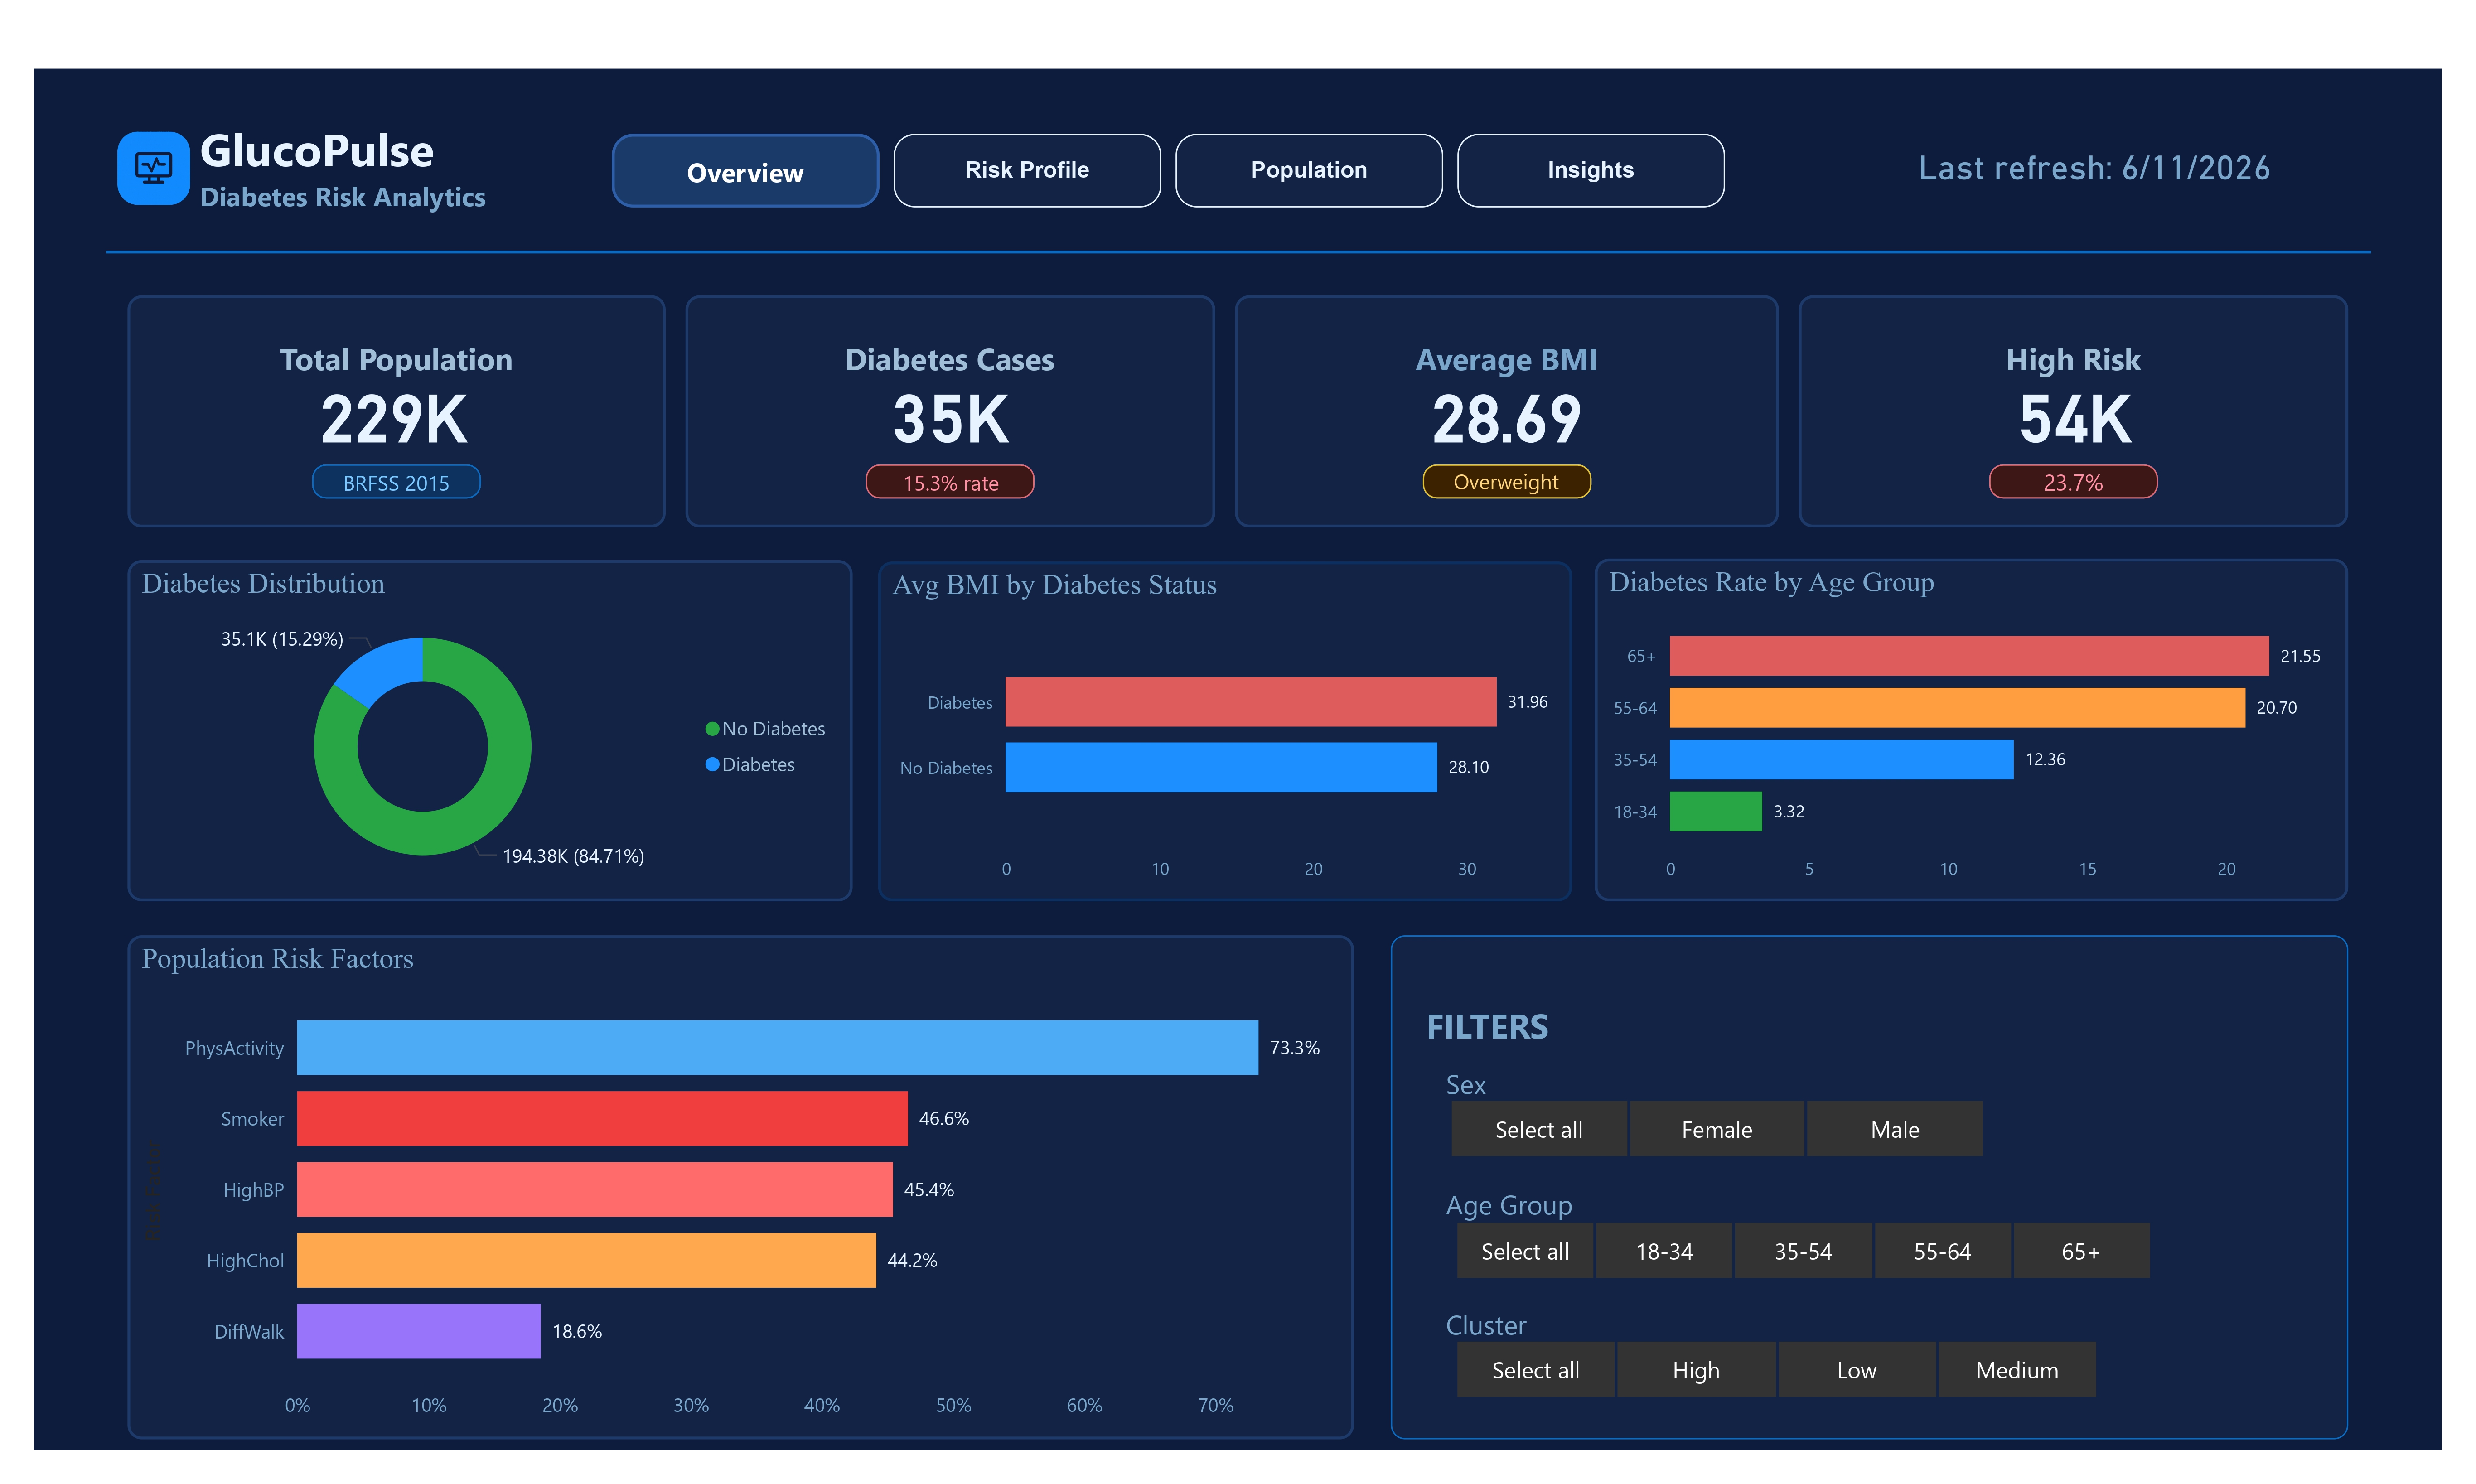

The page's visual inventory and layout, read from the dashboard file:
{"tool":"powerbi","page":{"name":"Overview ","canvas":[1700,1000],"ordinal":0},"visuals":[{"type":"shape","box":[958,612,676,356],"z":0},{"type":"textbox","box":[112.5,29,228.4,78.4],"z":1000},{"type":"shape","box":[51.1,107.4,1598.5,44.3],"z":2000},{"type":"card","title":"Total Population","fields":{"Values":["dashboard_diabetes_data.Total Population"]},"box":[66,160,380,164],"z":3000},{"type":"card","fields":{"Values":["dashboard_diabetes_data.Diabetes Cases"]},"box":[460,160,374,164],"z":4000},{"type":"card","fields":{"Values":["dashboard_diabetes_data.Average BMI"]},"box":[848,160,384,164],"z":5000},{"type":"card","fields":{"Values":["dashboard_diabetes_data.High Risk Cluster"]},"box":[1246,160,388,164],"z":6000},{"type":"donutChart","title":"Diabetes Distribution","fields":{"Category":["dashboard_diabetes_data.Diabetes Status"],"Y":["CountNonNull(dashboard_diabetes_data.Diabetes_binary)"]},"box":[66.3,346.7,512,241.7],"z":7000},{"type":"clusteredBarChart","title":"Avg BMI by Diabetes Status","fields":{"Category":["dashboard_diabetes_data.Diabetes Status"],"Y":["dashboard_diabetes_data.Average BMI"]},"box":[596.3,348.3,490,240],"z":8000},{"type":"clusteredBarChart","title":"Diabetes Rate by Age Group","fields":{"Category":["dashboard_diabetes_data.Age Group"],"Y":["dashboard_diabetes_data.Diabetes Rate Display"]},"box":[1102,346,532,242],"z":9000},{"type":"clusteredBarChart","title":"Population Risk Factors","fields":{"Category":["RiskFactors.Risk Factor"],"Y":["dashboard_diabetes_data.Risk Factor Rate"]},"box":[66,612,866,356],"z":10000},{"type":"slicer","title":"Sex","fields":{"Values":["dashboard_diabetes_data.Gender"]},"box":[962,722,442,56],"z":11000},{"type":"textbox","box":[978.3,653.5,364.7,42.6],"z":12000},{"type":"textbox","box":[991.6,698.9,299.9,51.1],"z":13000},{"type":"slicer","title":"Sex","fields":{"Values":["dashboard_diabetes_data.Age Group"]},"box":[966,808,556,56],"z":14000},{"type":"textbox","box":[992.3,783.9,300,50],"z":15000},{"type":"slicer","title":"Sex","fields":{"Values":["dashboard_diabetes_data.Risk Cluster"]},"box":[966,892,518,56],"z":16000},{"type":"textbox","box":[992.3,868.9,300,51.7],"z":17000},{"type":"textbox","box":[83.1,184.6,346.2,45.4],"z":18000},{"type":"shape","box":[196,279,120,25],"z":19000},{"type":"textbox","box":[197,278,118,32],"z":20000},{"type":"textbox","box":[473.8,184.6,345.4,45.4],"z":21000},{"type":"shape","box":[587.3,279.1,120,24.5],"z":22000},{"type":"textbox","box":[594.5,279.1,105.5,34.5],"z":23000},{"type":"textbox","box":[866.9,184.6,346.2,47.7],"z":24000},{"type":"shape","box":[980,279,120,25],"z":25000},{"type":"textbox","box":[984,276,111,32],"z":26000},{"type":"textbox","box":[1266.9,184.6,346.2,47.7],"z":27000},{"type":"shape","box":[1380,279,120,25],"z":28000},{"type":"textbox","box":[1385,276,110,33],"z":29000},{"type":"image","box":[0,4.4,167.8,147.2],"z":30000},{"type":"card","fields":{"Values":["dashboard_diabetes_data.Last Refresh"]},"box":[1260,16,390,106],"z":31000},{"type":"pageNavigator","box":[408.1,46.2,788.1,51.9],"z":32000}]}

Visuals, with their boxes on the page's 1700x1000 design canvas (x1, y1, x2, y2). These are canvas units, not pixel positions in the 2476x1484 screenshot, which may show the page scaled, cropped or inside an application window:
shape: detection(958, 612, 1634, 968)
textbox: detection(112, 29, 341, 107)
shape: detection(51, 107, 1650, 152)
"Total Population" card: detection(66, 160, 446, 324)
card - dashboard_diabetes_data.Diabetes Cases: detection(460, 160, 834, 324)
card - dashboard_diabetes_data.Average BMI: detection(848, 160, 1232, 324)
card - dashboard_diabetes_data.High Risk Cluster: detection(1246, 160, 1634, 324)
"Diabetes Distribution" donutChart: detection(66, 347, 578, 588)
"Avg BMI by Diabetes Status" clusteredBarChart: detection(596, 348, 1086, 588)
"Diabetes Rate by Age Group" clusteredBarChart: detection(1102, 346, 1634, 588)
"Population Risk Factors" clusteredBarChart: detection(66, 612, 932, 968)
"Sex" slicer: detection(962, 722, 1404, 778)
textbox: detection(978, 654, 1343, 696)
textbox: detection(992, 699, 1292, 750)
"Sex" slicer: detection(966, 808, 1522, 864)
textbox: detection(992, 784, 1292, 834)
"Sex" slicer: detection(966, 892, 1484, 948)
textbox: detection(992, 869, 1292, 921)
textbox: detection(83, 185, 429, 230)
shape: detection(196, 279, 316, 304)
textbox: detection(197, 278, 315, 310)
textbox: detection(474, 185, 819, 230)
shape: detection(587, 279, 707, 304)
textbox: detection(594, 279, 700, 314)
textbox: detection(867, 185, 1213, 232)
shape: detection(980, 279, 1100, 304)
textbox: detection(984, 276, 1095, 308)
textbox: detection(1267, 185, 1613, 232)
shape: detection(1380, 279, 1500, 304)
textbox: detection(1385, 276, 1495, 309)
image: detection(0, 4, 168, 152)
card - dashboard_diabetes_data.Last Refresh: detection(1260, 16, 1650, 122)
pageNavigator: detection(408, 46, 1196, 98)
